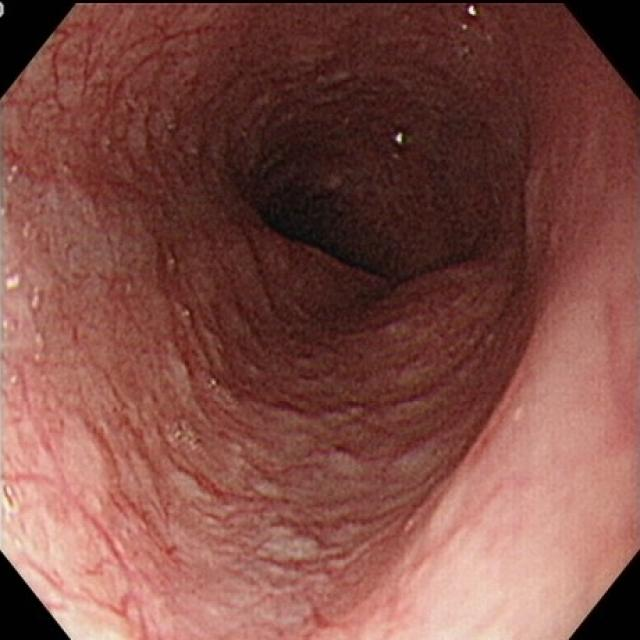A: (48, 345, 428, 615)
E: (262, 119, 470, 296)
